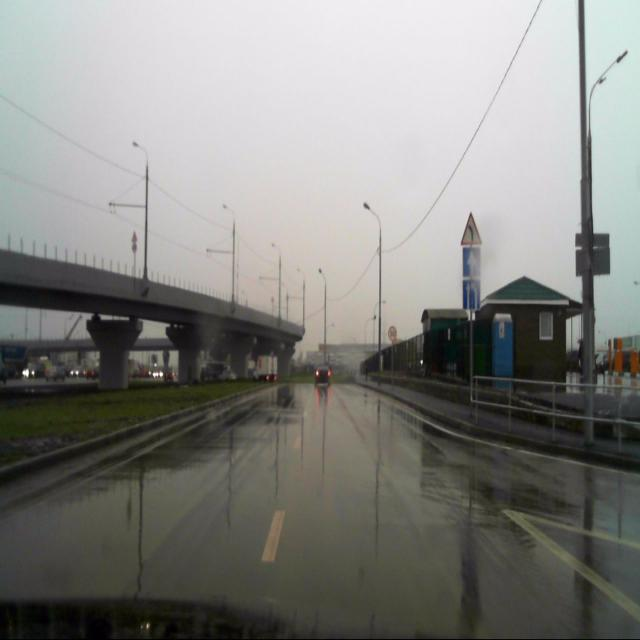object: (470, 309, 474, 418)
road sign: (460, 212, 481, 244), (462, 248, 480, 276), (463, 280, 480, 308)
